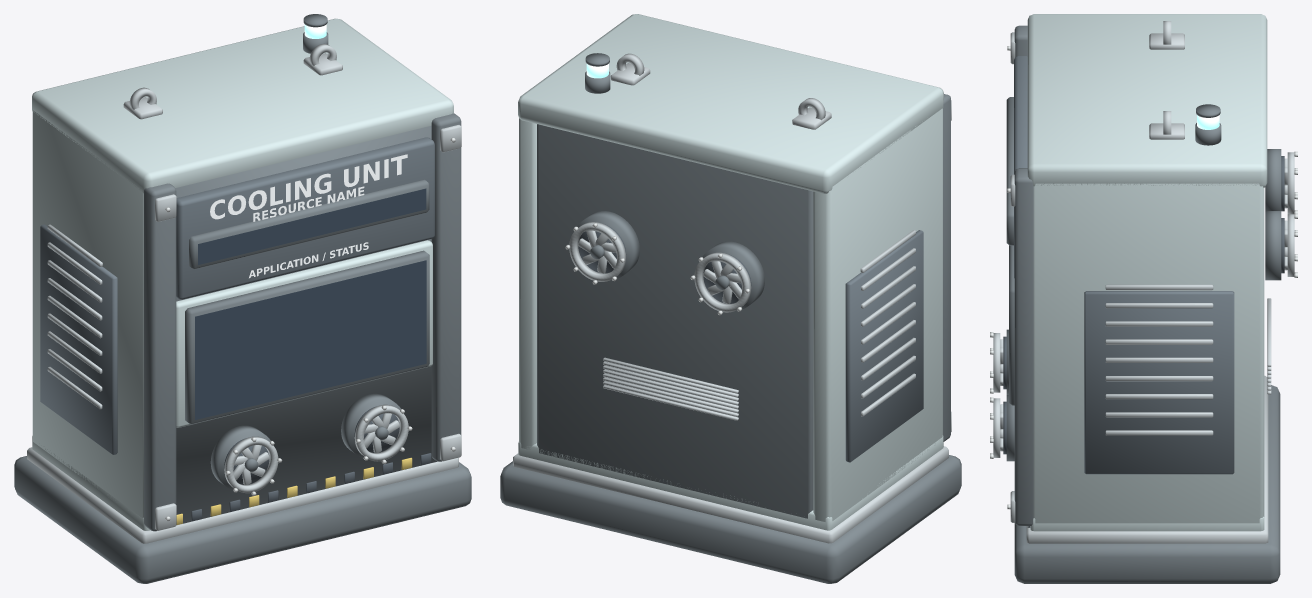
The model's file is cooling_unit_ultra.glb.
3 views of the same model, side by side, from view 1: azimuth 30°, elevation 25°; view 2: azimuth 150°, elevation 25°; view 3: azimuth 270°, elevation 25° (orthographic). The views are drawn at different scales.
Parts seen in each view (by area): view 1: Roof_ice, LiveViewSurface_glass, SideWall_ice, SealFront_frame, CornerPost_frame, Skid_frame, FrontHeader_graphite, SideServicePanel_graphite, SkidDeck_steel, LiveViewSurfaceFrame_frame, ResourceNameSurface_glass, ScreenSupport_ice (+13 smaller); view 2: BackWall_frame, Roof_ice, SideWall_ice, Skid_frame, SideServicePanel_graphite, SkidDeck_steel, RearFan_steel, RearVent_steel, KickPlate_ice, SideLouver_steel, RearFan_frame, CornerPost_frame (+3 smaller); view 3: SideWall_ice, Roof_ice, SideServicePanel_graphite, Skid_frame, CornerPost_frame, SideLouver_steel, SkidDeck_steel, RearFan_frame, KickPlate_ice, FrontHeader_graphite, RearFan_steel, IntakeFan_steel (+10 smaller).
Boxes of the visible parts, box(x1,y1,x2,y2) form: Roof_ice: box(32, 18, 453, 193); LiveViewSurface_glass: box(195, 260, 426, 419); SideWall_ice: box(32, 110, 143, 517); SealFront_frame: box(175, 125, 437, 523); CornerPost_frame: box(144, 113, 461, 531); Skid_frame: box(14, 456, 471, 583); FrontHeader_graphite: box(176, 137, 434, 299); SideServicePanel_graphite: box(40, 224, 117, 454); SkidDeck_steel: box(27, 447, 458, 543); LiveViewSurfaceFrame_frame: box(185, 250, 429, 424); ResourceNameSurface_glass: box(198, 188, 426, 264); ScreenSupport_ice: box(176, 240, 432, 427); BackWall_frame: box(537, 124, 813, 518); Roof_ice: box(518, 14, 943, 193); SideWall_ice: box(519, 108, 942, 521); Skid_frame: box(500, 455, 961, 583); SideServicePanel_graphite: box(845, 230, 923, 462); SkidDeck_steel: box(513, 446, 948, 543); RearFan_steel: box(569, 222, 751, 312); RearVent_steel: box(603, 357, 738, 420); KickPlate_ice: box(518, 435, 943, 530); SideLouver_steel: box(860, 230, 915, 416); RearFan_frame: box(577, 211, 764, 310); CornerPost_frame: box(943, 94, 950, 441); SideWall_ice: box(1033, 183, 1264, 523); Roof_ice: box(1027, 14, 1267, 187); SideServicePanel_graphite: box(1084, 291, 1234, 474); Skid_frame: box(1014, 385, 1280, 583); CornerPost_frame: box(1014, 25, 1033, 525); SideLouver_steel: box(1105, 284, 1213, 435); SkidDeck_steel: box(1026, 375, 1268, 543); RearFan_frame: box(1265, 149, 1281, 280); KickPlate_ice: box(1030, 516, 1264, 531); FrontHeader_graphite: box(1014, 56, 1027, 278); RearFan_steel: box(1284, 152, 1294, 276); IntakeFan_steel: box(993, 333, 1003, 457).
Bounding box in the file's own units: 2 × 2.48 × 1.55.
